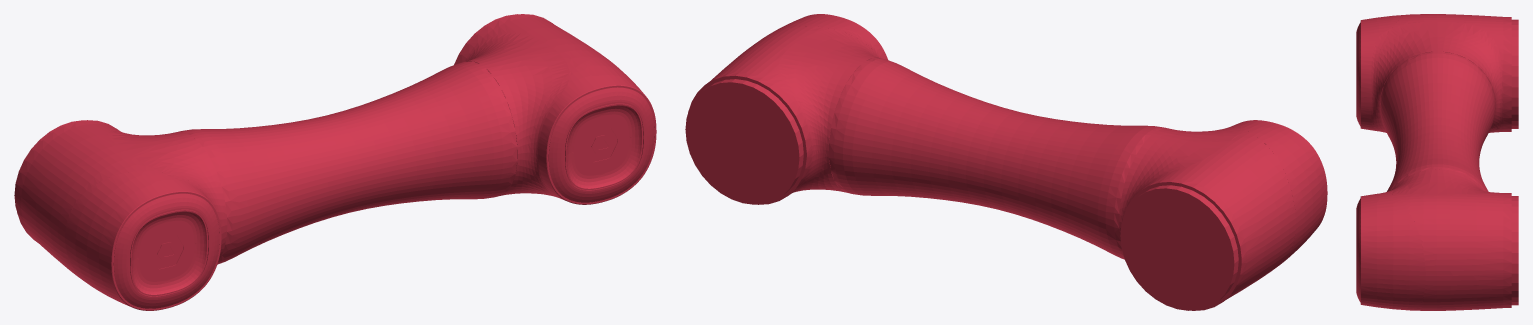
The picture shows the model from 3 angles, left to right: view 1: azimuth 30°, elevation 25°; view 2: azimuth 150°, elevation 25°; view 3: azimuth 270°, elevation 25°; orthographic projection. The views are drawn at different scales.
Parts seen in each view (by area): view 1: Link2-mesh_1; view 2: Link2-mesh_1; view 3: Link2-mesh_1.
Boxes of the visible parts, x1,y1,x2,y2 form: Link2-mesh_1: (14, 14, 656, 310); Link2-mesh_1: (685, 14, 1327, 310); Link2-mesh_1: (1356, 14, 1518, 310).
Bounding box in the file's own units: 0.5501 × 0.1231 × 0.1665.
